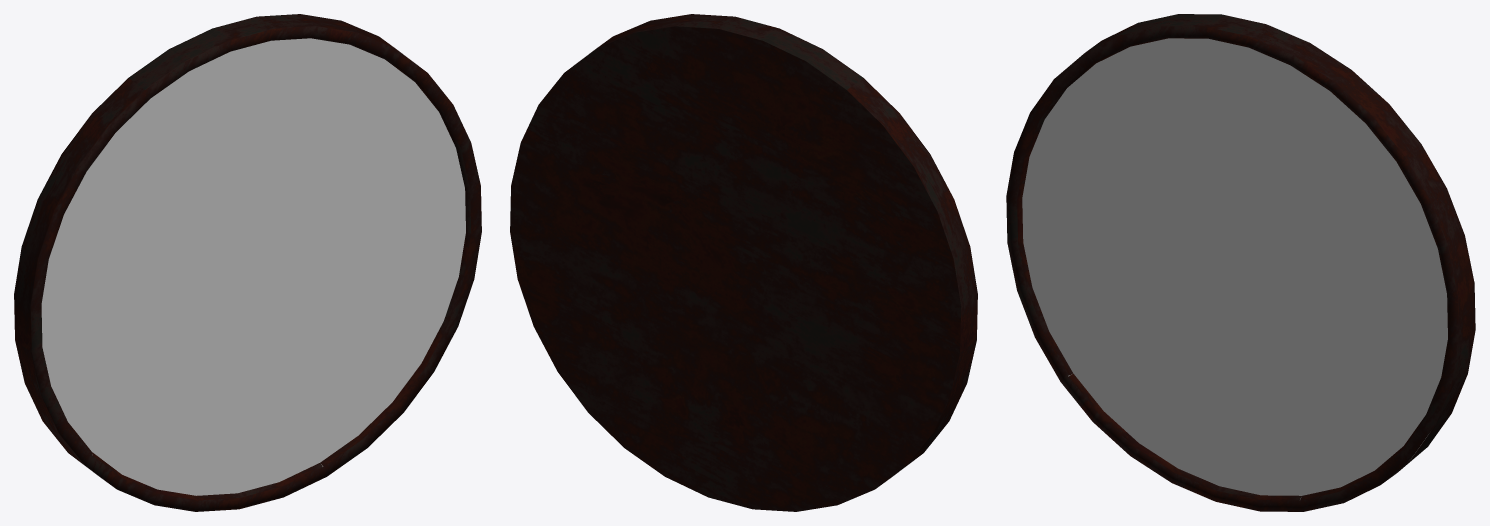
Rendered from PHOTO FRAME.fbx.
3 renders of one model, left to right at view 1: azimuth 30°, elevation 25°; view 2: azimuth 150°, elevation 25°; view 3: azimuth 330°, elevation 25°, orthographic.
Visible parts, largest first — view 1: PHOTO FRAME; view 2: PHOTO FRAME; view 3: PHOTO FRAME.
Boxes of the visible parts, x1,y1,x2,y2 form: PHOTO FRAME: [14, 14, 481, 511]; PHOTO FRAME: [510, 14, 977, 511]; PHOTO FRAME: [1006, 14, 1475, 511].
Bounding box in the file's own units: 0.8558 × 0.0551 × 0.8558.
